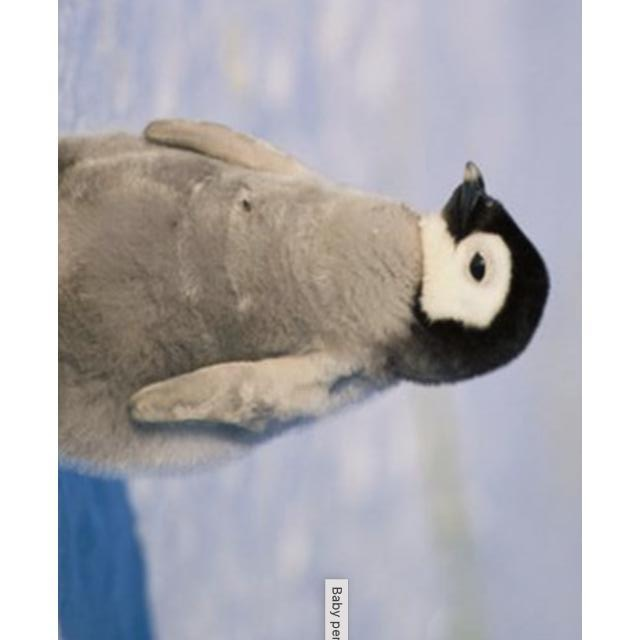penguin: (60, 118, 549, 478)
